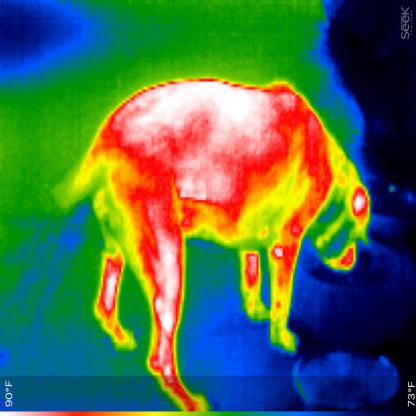dog: (63, 74, 376, 411)
